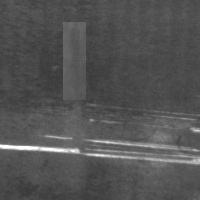inclusion: (63, 22, 86, 100)
scratches: (1, 135, 199, 167), (85, 101, 198, 131)
